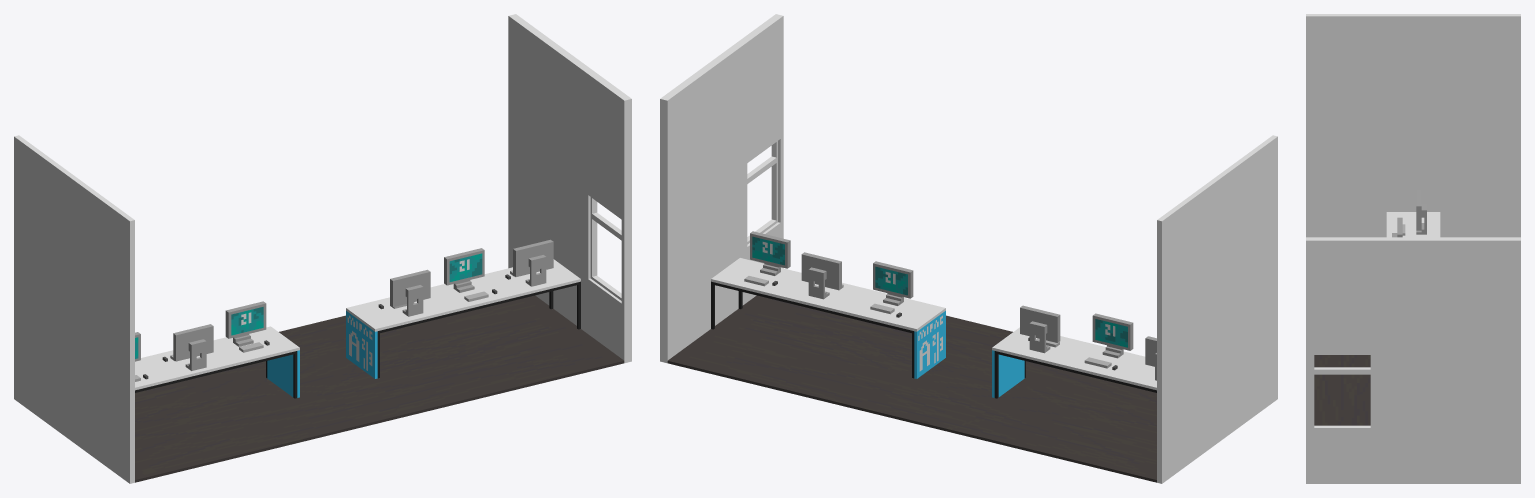
File: TwoTables.obj
The picture shows the model from 3 angles, left to right: view 1: azimuth 30°, elevation 25°; view 2: azimuth 150°, elevation 25°; view 3: azimuth 270°, elevation 25°; orthographic projection. The views are drawn at different scales.
Bounding box in the file's own units: 20 × 10 × 8.
1 material, 1 textured.
